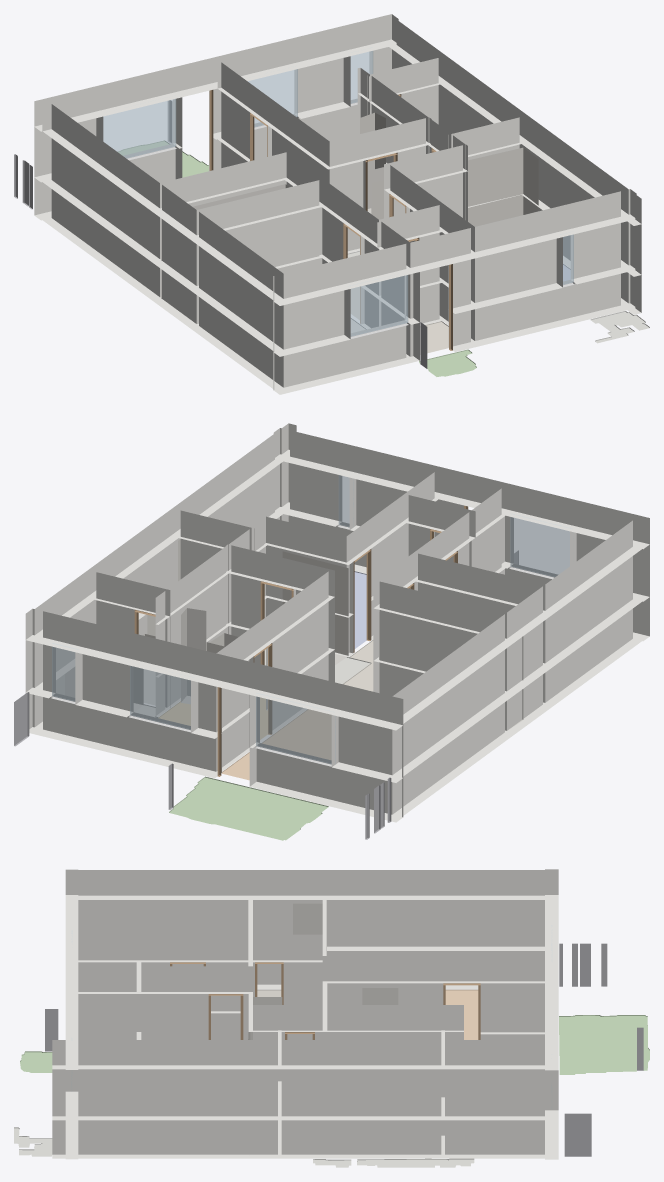
3 views of the same model, one above another, from view 1: azimuth 30°, elevation 25°; view 2: azimuth 150°, elevation 25°; view 3: azimuth 270°, elevation 25° (orthographic). The views are drawn at different scales.
Visible parts, largest first — view 1: walls, furniture_3_closet, window_3, window_12, window_0, railings, floor_14_Undefined, floor_11_Outdoor, floor_10_Outdoor, window_1, floor_9_Entry, furniture_0_closet; view 2: walls, floor_10_Outdoor, window_3, window_0, window_12, floor_0_Living_Room, railings, furniture_3_closet, furniture_0_closet, window_1, floor_7_Bed_Room, floor_2_Entry (+5 smaller); view 3: walls, floor_10_Outdoor, railings, floor_0_Living_Room, floor_12_Undefined, furniture_2_closet, floor_14_Undefined, floor_11_Outdoor, furniture_1_closet.
Boxes of the visible parts, x1,y1,x2,y2 form: walls: [34, 14, 641, 394]; furniture_3_closet: [371, 147, 538, 226]; window_3: [103, 99, 176, 158]; window_12: [347, 275, 408, 336]; window_0: [248, 69, 297, 126]; railings: [14, 100, 427, 368]; floor_14_Undefined: [590, 311, 649, 343]; floor_11_Outdoor: [419, 349, 476, 376]; floor_10_Outdoor: [118, 140, 208, 177]; window_1: [350, 47, 373, 103]; floor_9_Entry: [420, 321, 448, 354]; furniture_0_closet: [360, 112, 385, 170]; walls: [25, 423, 649, 822]; floor_10_Outdoor: [169, 776, 328, 840]; window_3: [256, 693, 335, 764]; window_0: [130, 666, 193, 729]; window_12: [510, 514, 571, 577]; floor_0_Living_Room: [222, 709, 331, 780]; railings: [14, 550, 518, 839]; furniture_3_closet: [178, 539, 348, 664]; furniture_0_closet: [181, 608, 206, 703]; window_1: [52, 643, 78, 701]; floor_7_Bed_Room: [354, 571, 366, 648]; floor_2_Entry: [343, 640, 373, 691]; walls: [52, 869, 558, 1159]; floor_10_Outdoor: [559, 1015, 649, 1074]; railings: [45, 943, 643, 1156]; floor_0_Living_Room: [445, 989, 478, 1039]; floor_12_Undefined: [357, 1158, 474, 1167]; furniture_2_closet: [293, 903, 322, 934]; floor_14_Undefined: [14, 1127, 52, 1156]; floor_11_Outdoor: [20, 1051, 52, 1072]; furniture_1_closet: [362, 988, 398, 1004].
Size of the model in its own units: 9.21 by 2.72 by 13.56.
